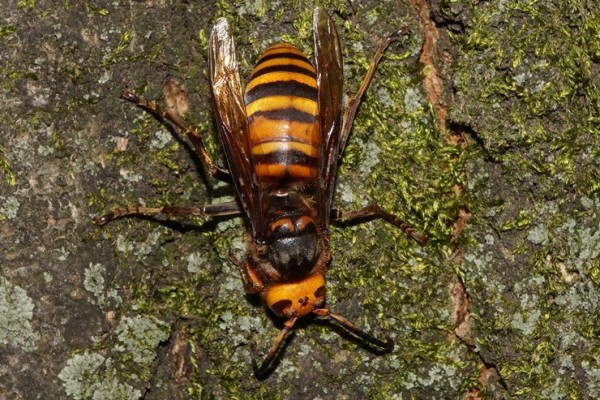asian_giant_hornet: (201, 8, 385, 349)
